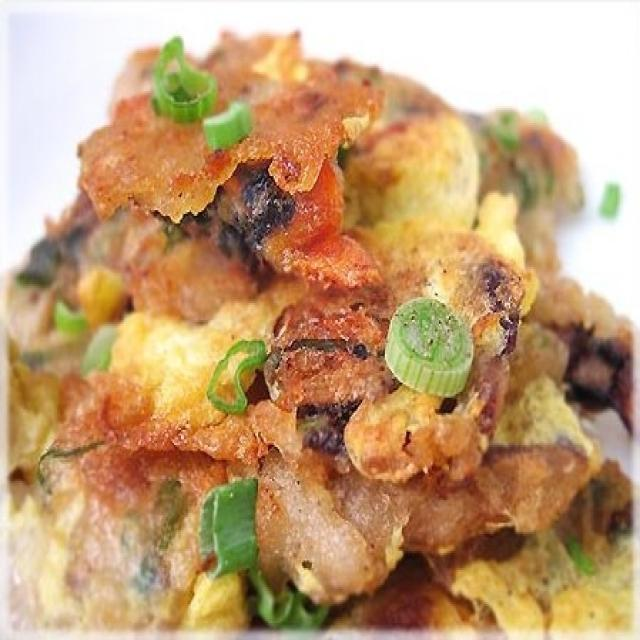炸货点心: (17, 17, 617, 623)
蛋糕甜品: (17, 17, 617, 623)
